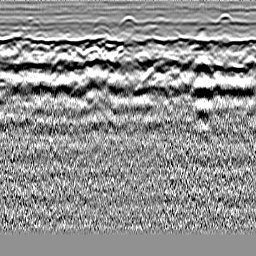cavity: (118, 14, 137, 27)
